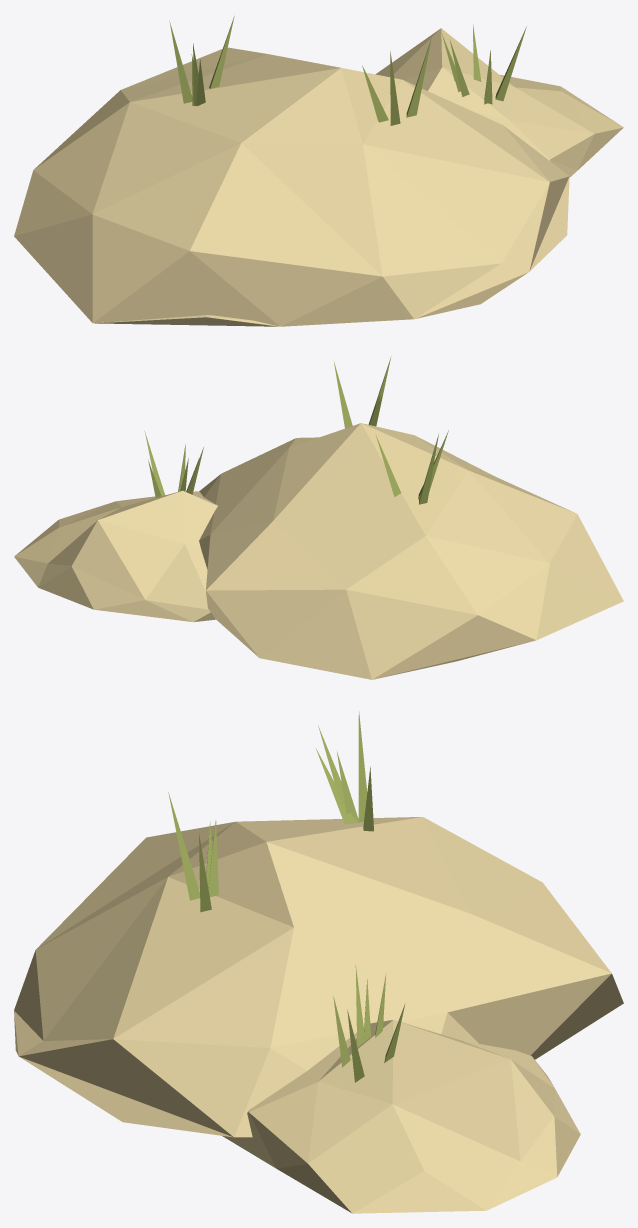
The model's file is SandDuneB.fbx.
3 renders of one model, top to bottom at view 1: azimuth 30°, elevation 25°; view 2: azimuth 150°, elevation 25°; view 3: azimuth 270°, elevation 25°, orthographic. The views are drawn at different scales.
Parts seen in each view (by area): view 1: SandDuneB_Sand, SandDuneB_Grass; view 2: SandDuneB_Sand, SandDuneB_Grass; view 3: SandDuneB_Sand, SandDuneB_Grass.
Boxes of the visible parts, x1,y1,x2,y2 form: SandDuneB_Sand: (14, 28, 623, 326); SandDuneB_Grass: (169, 16, 526, 125); SandDuneB_Sand: (14, 423, 623, 679); SandDuneB_Grass: (144, 356, 448, 504); SandDuneB_Sand: (14, 817, 623, 1213); SandDuneB_Grass: (168, 711, 404, 1082).
Bounding box in the file's own units: 22.97 × 7.9 × 17.48.
